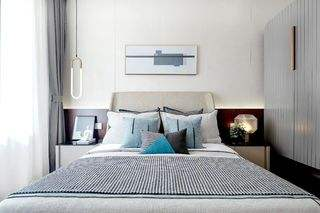床: (0, 148, 311, 211)
枕头: (100, 102, 220, 151)
灯: (67, 2, 84, 101), (226, 111, 259, 146)
